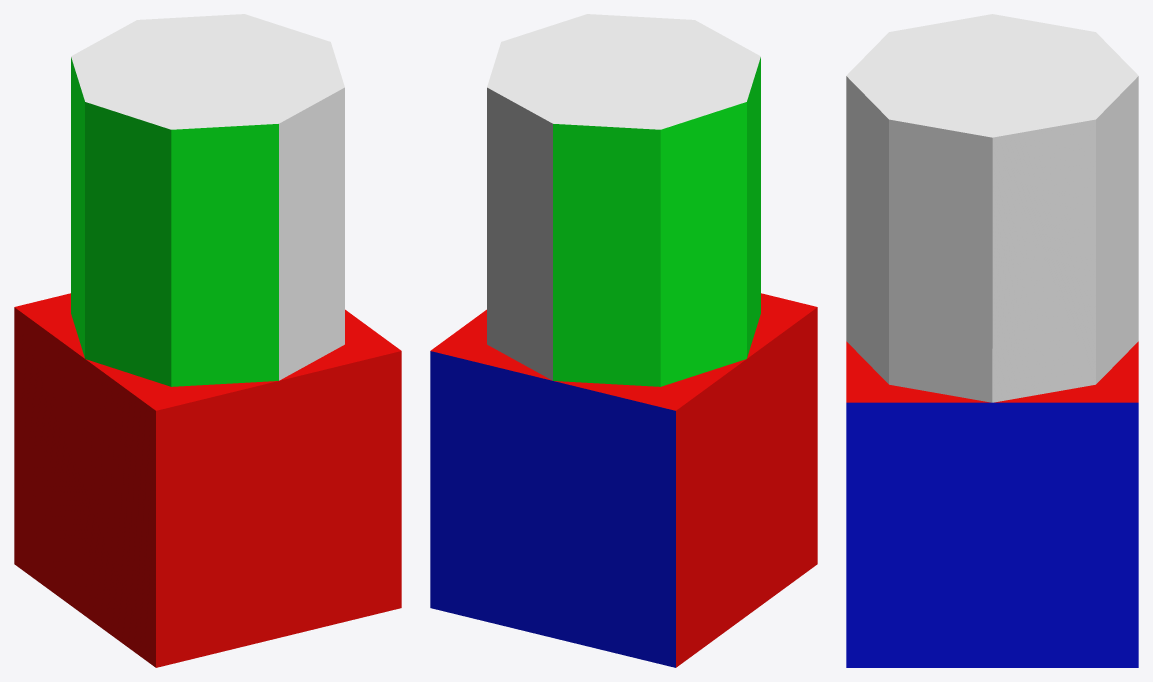
3 views of the same model, side by side, from view 1: azimuth 30°, elevation 25°; view 2: azimuth 150°, elevation 25°; view 3: azimuth 270°, elevation 25° (orthographic). The views are drawn at different scales.
Visible parts, largest first — view 1: Box, Cylinder; view 2: Box, Cylinder; view 3: Cylinder, Box.
Part boxes in pixels (<box>): Box: <box>14,293,401,667</box>; Cylinder: <box>71,14,344,386</box>; Box: <box>430,293,817,667</box>; Cylinder: <box>487,14,760,386</box>; Cylinder: <box>846,14,1138,402</box>; Box: <box>846,341,1138,667</box>.
Bounding box in the file's own units: 200 × 400 × 200.
